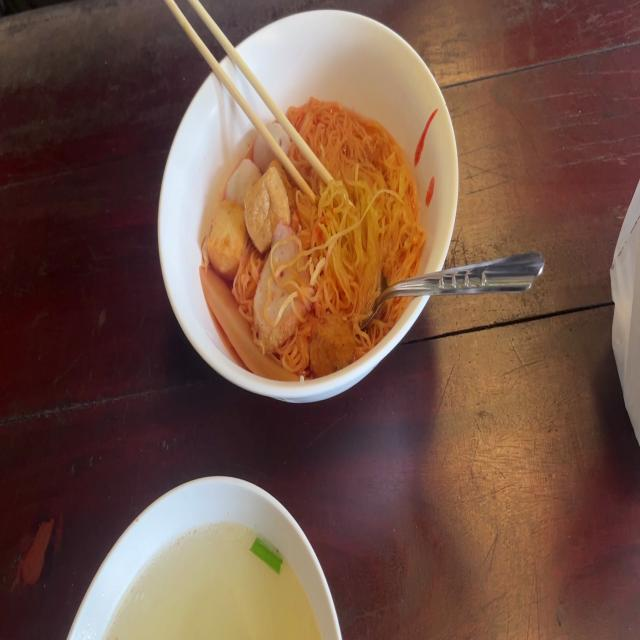crunchy_squid: (199, 262, 303, 391)
egg_noodles: (292, 107, 431, 342)
fish_ball: (228, 156, 262, 210), (253, 118, 285, 174)
fried_fish_balls: (255, 221, 309, 343)
fried_tofu: (244, 159, 295, 241)
noodle: (205, 99, 421, 374)
tofu: (202, 199, 250, 272)
